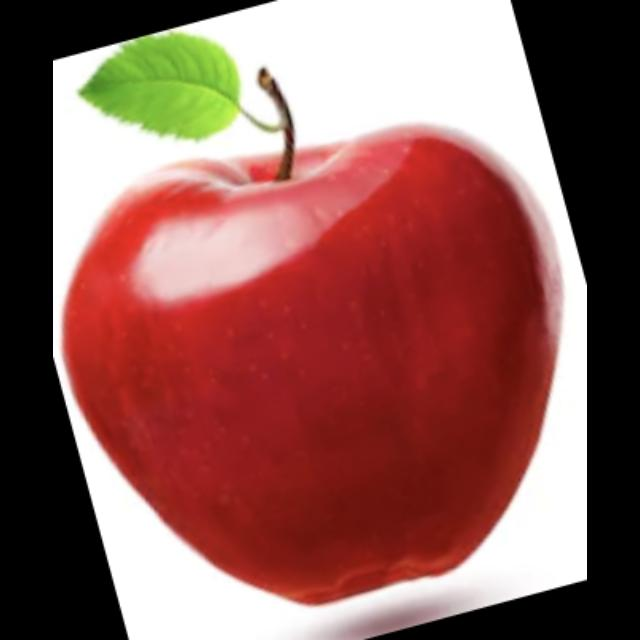Apel Segar: (65, 105, 547, 602)
